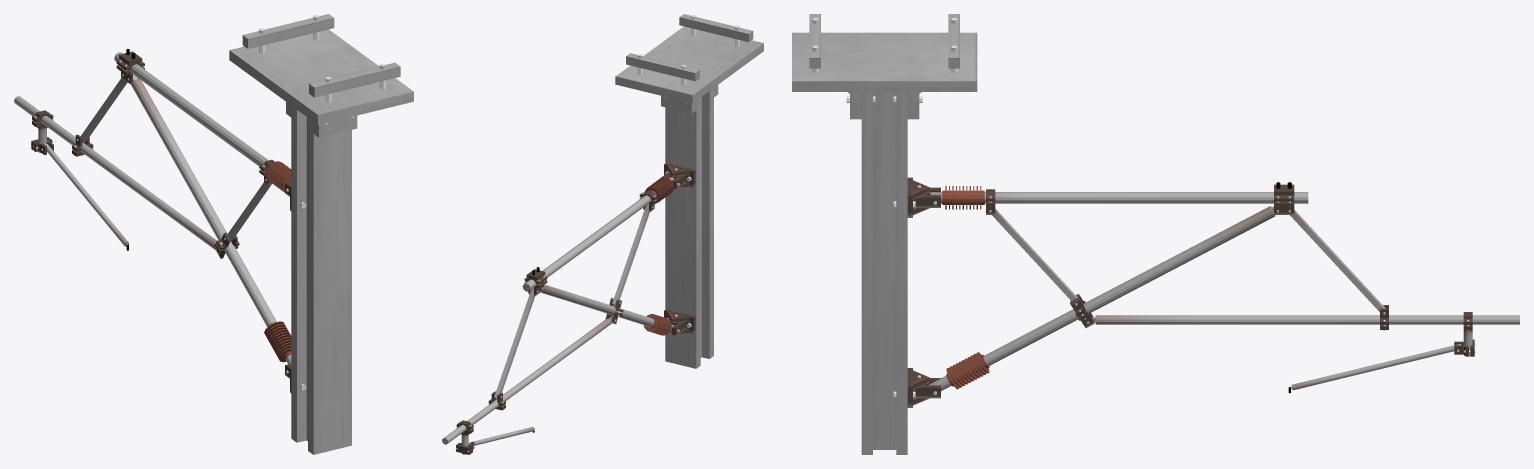
File: catenary_long_top.obj
The picture shows the model from 3 angles, left to right: view 1: azimuth 30°, elevation 25°; view 2: azimuth 150°, elevation 25°; view 3: azimuth 270°, elevation 25°; orthographic projection. The views are drawn at different scales.
Visible parts, largest first — view 1: cuboid, cylinder; view 2: cuboid, cylinder; view 3: cuboid, cylinder.
Boxes of the visible parts, bbox=[...] form: cuboid: bbox=[31, 14, 413, 454]; cylinder: bbox=[14, 15, 385, 390]; cuboid: bbox=[456, 14, 763, 454]; cylinder: bbox=[442, 15, 739, 454]; cuboid: bbox=[792, 14, 1474, 454]; cylinder: bbox=[812, 18, 1519, 398].
Bounding box in the file's own units: 0.625 × 2.46 × 3.93.
Materials: 1 (1 with a texture image).
